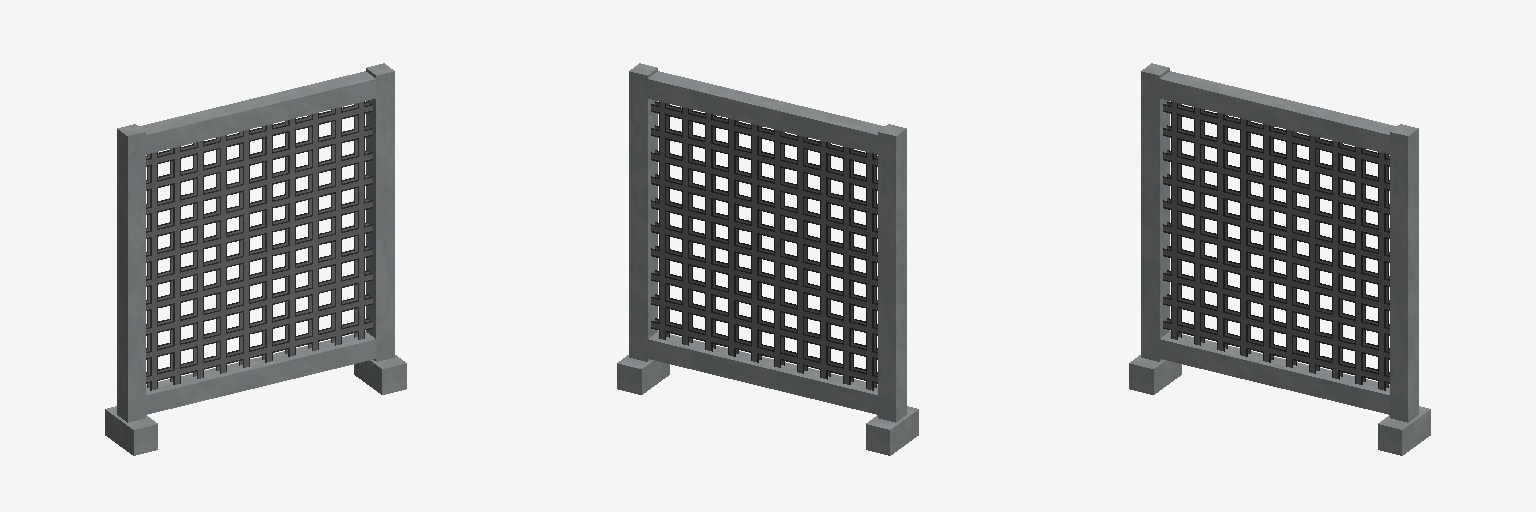
3 renders of one model, left to right at view 1: azimuth 30°, elevation 25°; view 2: azimuth 150°, elevation 25°; view 3: azimuth 330°, elevation 25°, orthographic.
Parts seen in each view (by area): view 1: grate01, side01, side02, up01, down01, feet02, feet01; view 2: grate01, side01, side02, up01, down01, feet02, feet01; view 3: grate01, side02, side01, up01, down01, feet01, feet02.
Boxes of the visible parts, box(x1,y1,x2,y2) form: grate01: box(146, 101, 372, 390); side01: box(117, 124, 145, 422); side02: box(366, 63, 394, 361); up01: box(139, 71, 375, 154); down01: box(146, 331, 375, 414); feet02: box(105, 406, 157, 455); feet01: box(354, 355, 406, 394); grate01: box(651, 101, 877, 390); side01: box(878, 124, 906, 422); side02: box(629, 63, 657, 361); up01: box(648, 71, 884, 154); down01: box(648, 331, 877, 414); feet02: box(866, 406, 918, 455); feet01: box(617, 355, 669, 394); grate01: box(1163, 101, 1389, 390); side02: box(1390, 124, 1418, 422); side01: box(1141, 63, 1169, 361); up01: box(1160, 71, 1396, 154); down01: box(1160, 331, 1389, 414); feet01: box(1378, 406, 1430, 455); feet02: box(1129, 355, 1181, 394).
Bounding box in the file's own units: 2.75 × 3 × 0.5.
Materials: 3 (2 with a texture image).